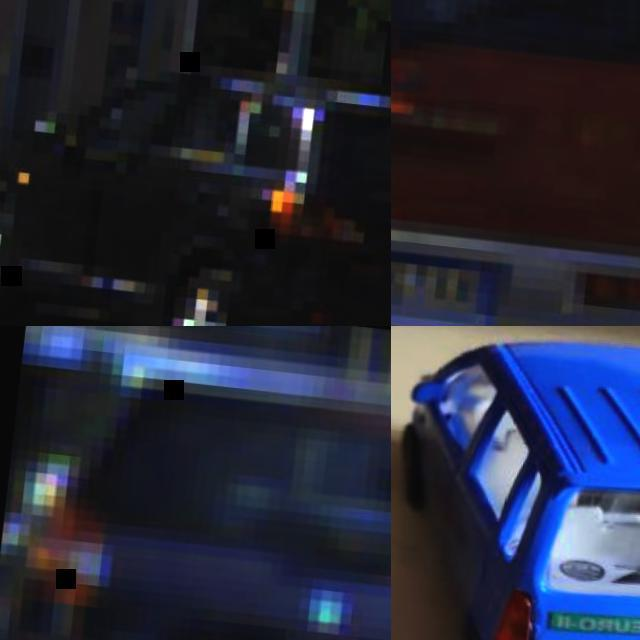car: (397, 342, 636, 639)
